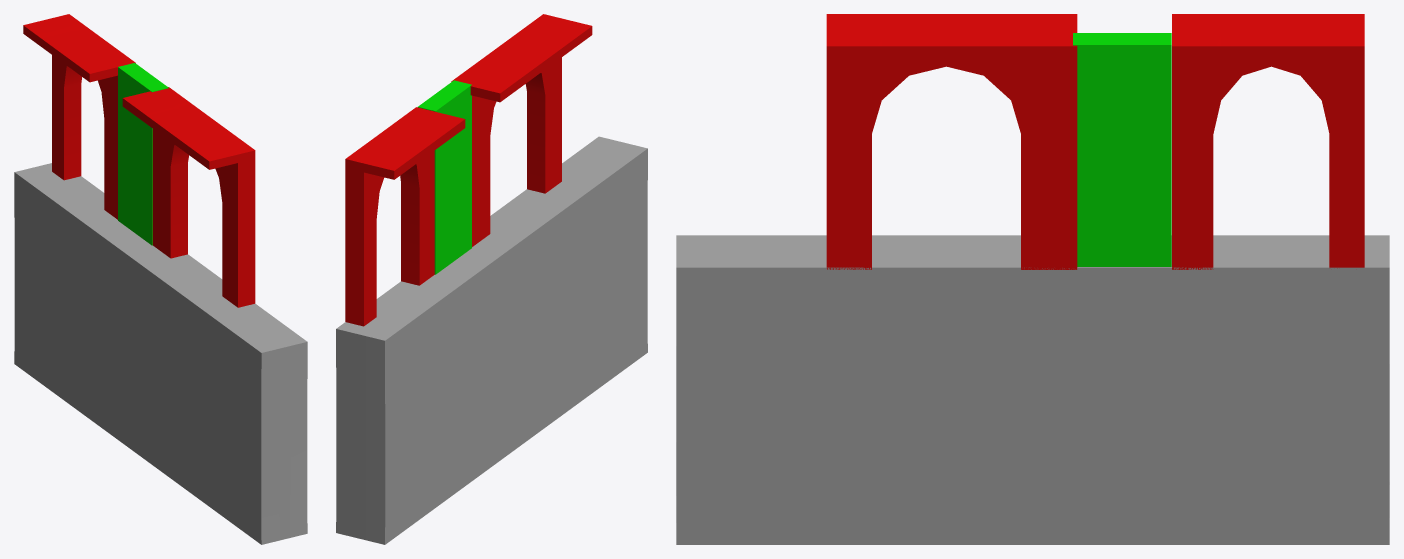
Rendered from zip_half2.fbx.
3 views of the same model, side by side, from view 1: azimuth 30°, elevation 25°; view 2: azimuth 150°, elevation 25°; view 3: azimuth 270°, elevation 25° (orthographic). The views are drawn at different scales.
Parts seen in each view (by area): view 1: polySurface2159; view 2: polySurface2159; view 3: polySurface2159.
Part boxes in pixels (x1,y1,x2,y2): polySurface2159: (14, 14, 307, 544); polySurface2159: (336, 14, 647, 544); polySurface2159: (676, 14, 1389, 544).
Bounding box in the file's own units: 37.92 × 272 × 353.
